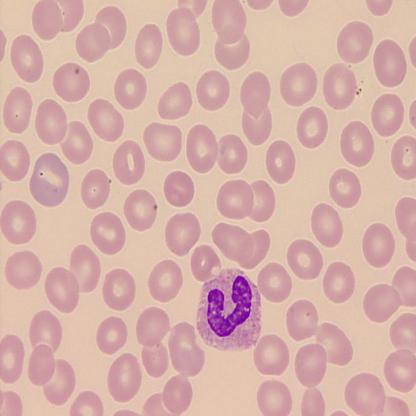Band Neutrophil: (194, 266, 265, 354)
